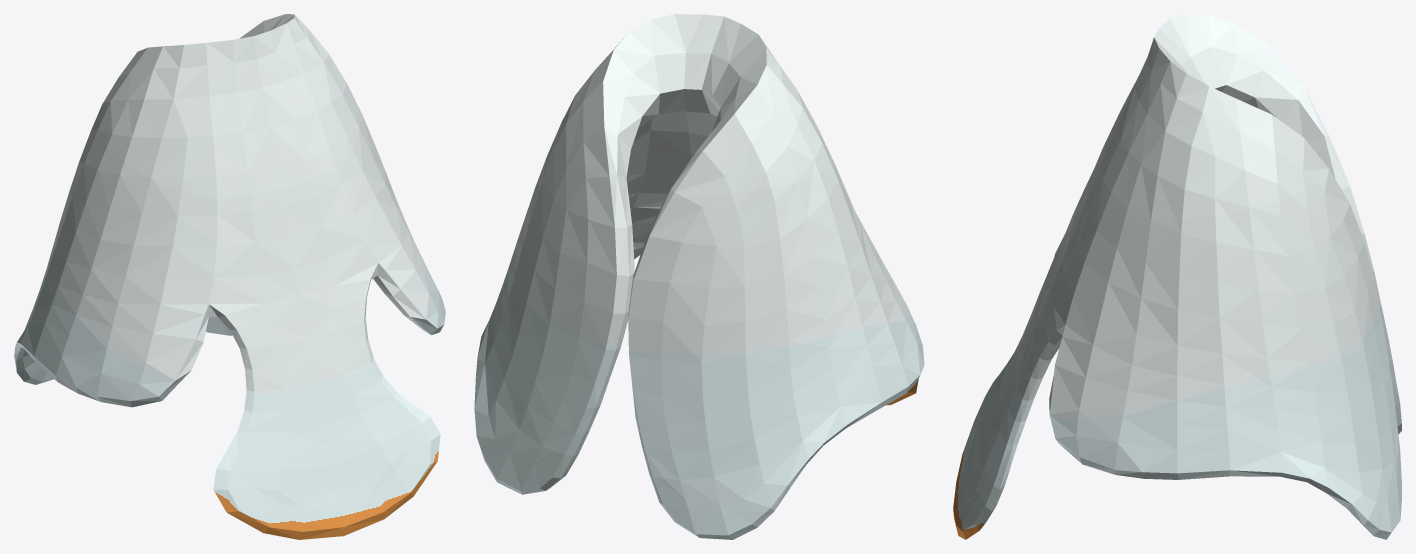
The model's file is CharSkyKid_Wing_AP15BabyManta_01.glb.
The picture shows the model from 3 angles, left to right: view 1: azimuth 30°, elevation 25°; view 2: azimuth 150°, elevation 25°; view 3: azimuth 270°, elevation 25°; orthographic projection. The views are drawn at different scales.
Parts seen in each view (by area): view 1: CharSkyKid_Wing_AP15BabyManta_01; view 2: CharSkyKid_Wing_AP15BabyManta_01; view 3: CharSkyKid_Wing_AP15BabyManta_01.
Boxes of the visible parts, bbox=[...] form: CharSkyKid_Wing_AP15BabyManta_01: bbox=[14, 14, 445, 539]; CharSkyKid_Wing_AP15BabyManta_01: bbox=[474, 14, 924, 539]; CharSkyKid_Wing_AP15BabyManta_01: bbox=[953, 14, 1401, 539].
Size of the model in its own units: 5.73 by 6.33 by 5.35.
1 material, 1 textured.
